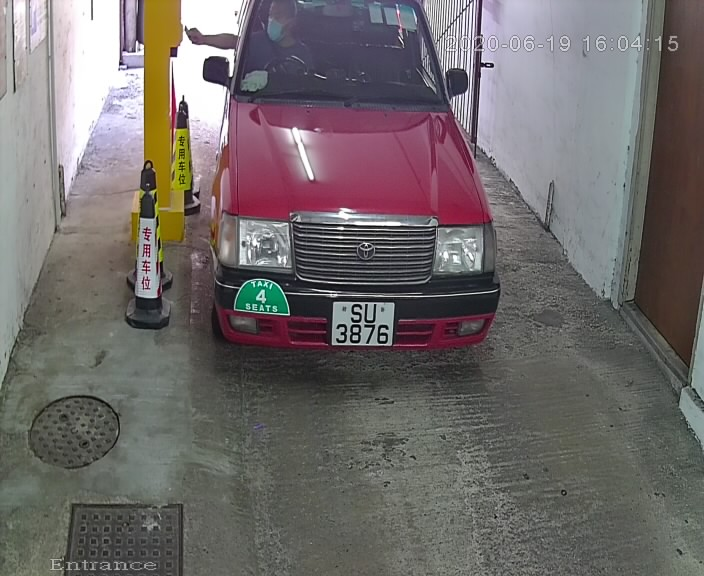taxi: (196, 2, 517, 376)
taxi_mark: (226, 271, 301, 328)
